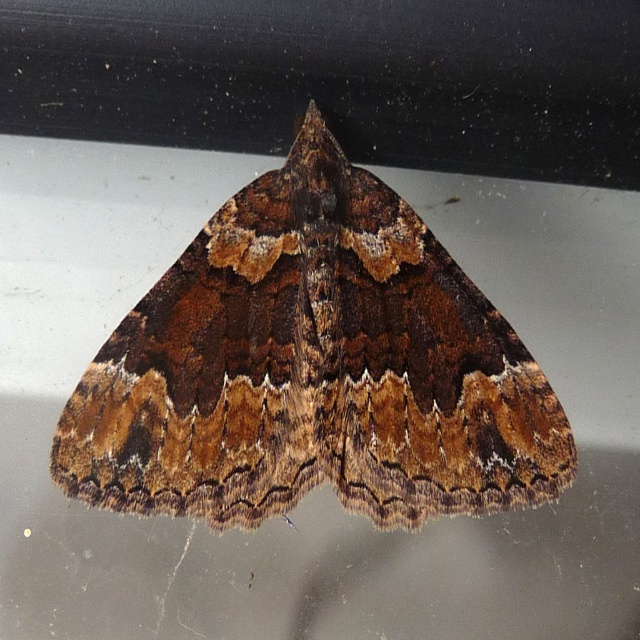Moths and butterflies: (50, 98, 582, 532)
